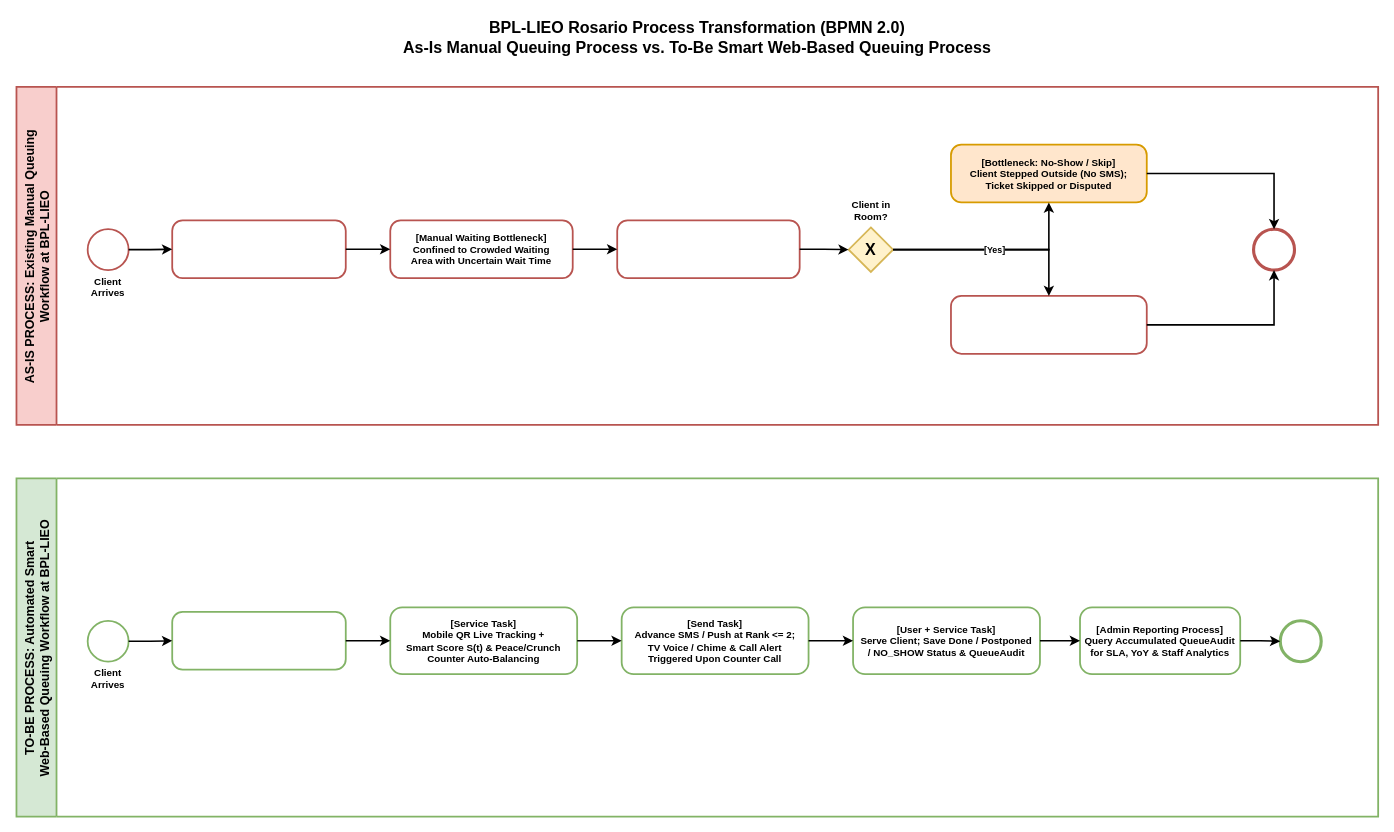
Image size: 1394x832. Some labels were removed from this diagram. Here are the shapes that lost their labels. From the top down, the centre of each, then its label:
point (258, 249): [Manual Task] Write Name / Receive Static Paper Number without ETA
point (708, 249): [Manual Task] Staff Verbally Calls Next Number (Rigid FIFO / Ad-Hoc Priority)
point (1274, 249): Manual End
point (1048, 324): [Manual Task] Serve Client & Manually Tally Records (No Real-Time SLA Stats)
point (258, 640): [Service Task] Print QR Ticket with Atomic ID & Phantom Wait Time E[W]
point (1300, 641): Automated End
